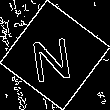N_N: (31, 27, 79, 83)
